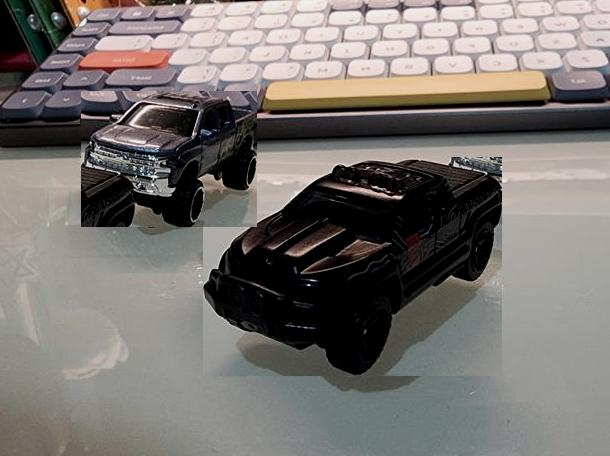toy-car: (203, 157, 502, 376), (81, 91, 257, 227)
